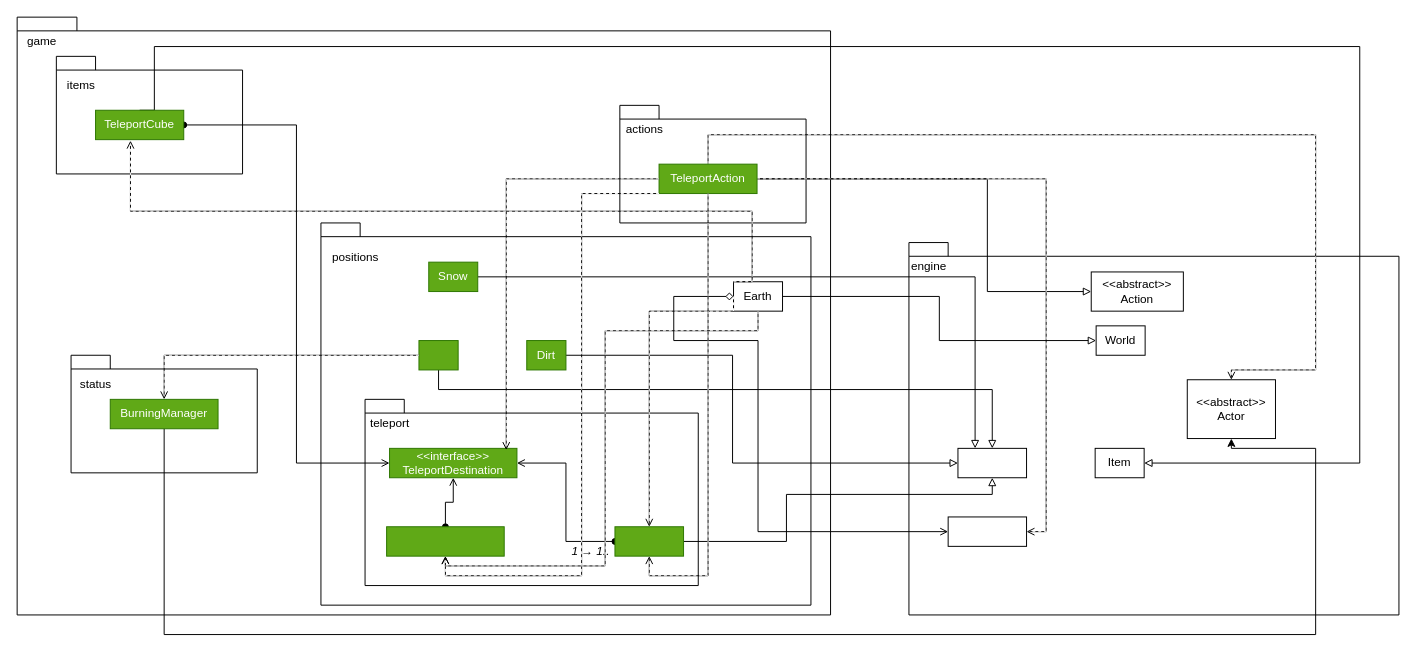
The diagram is 1416 pixels wide and 660 high, and some of its shapes have lost their labels. Each missing label, with the box of its shape:
<<abstract>> Ground: (957, 447, 1027, 478)
Fire: (418, 340, 458, 370)
GameMap: (947, 516, 1027, 546)
TeleDoor: (614, 526, 684, 556)
TeleportationCircle: (386, 526, 504, 556)
